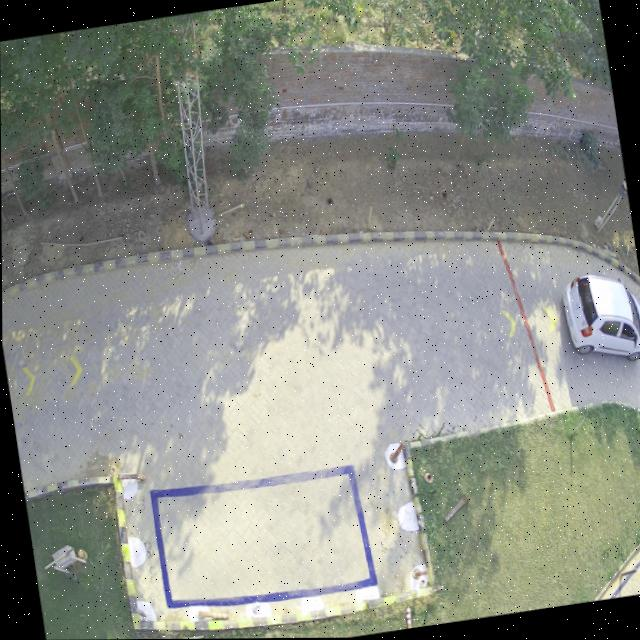car: (563, 276, 640, 359)
